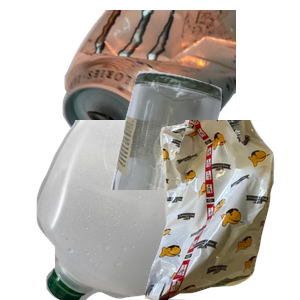glass: (109, 69, 300, 249)
metal: (60, 10, 300, 175)
plastic: (34, 120, 274, 300)
trash: (127, 120, 300, 300)
